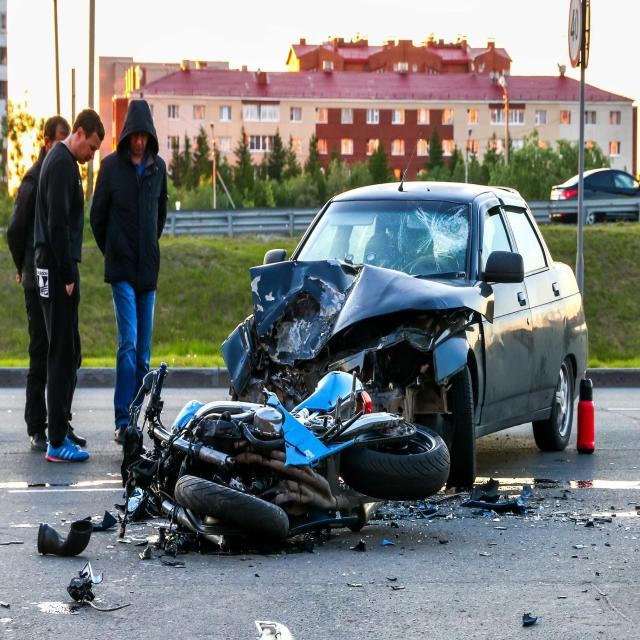Accident: (118, 178, 592, 560)
